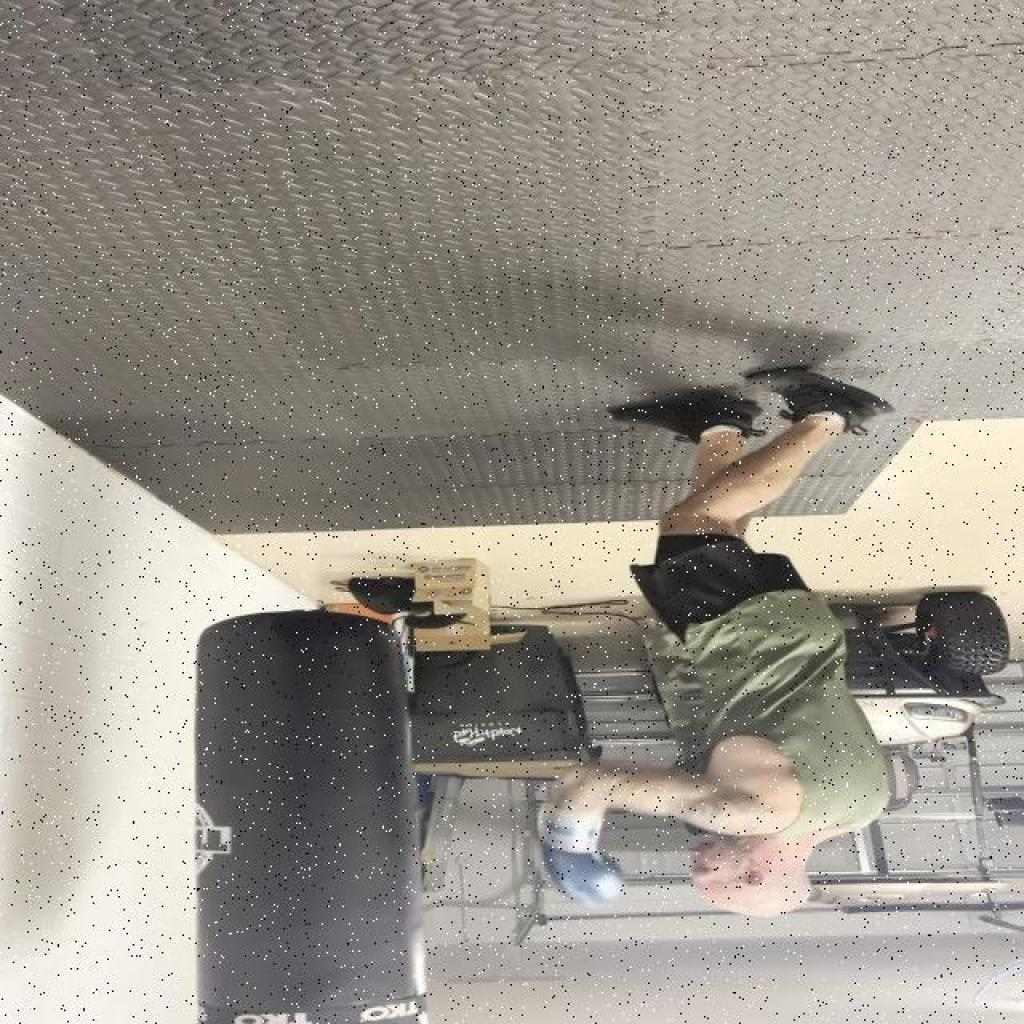bag: (157, 603, 440, 1024)
uppercut: (522, 747, 906, 949)
